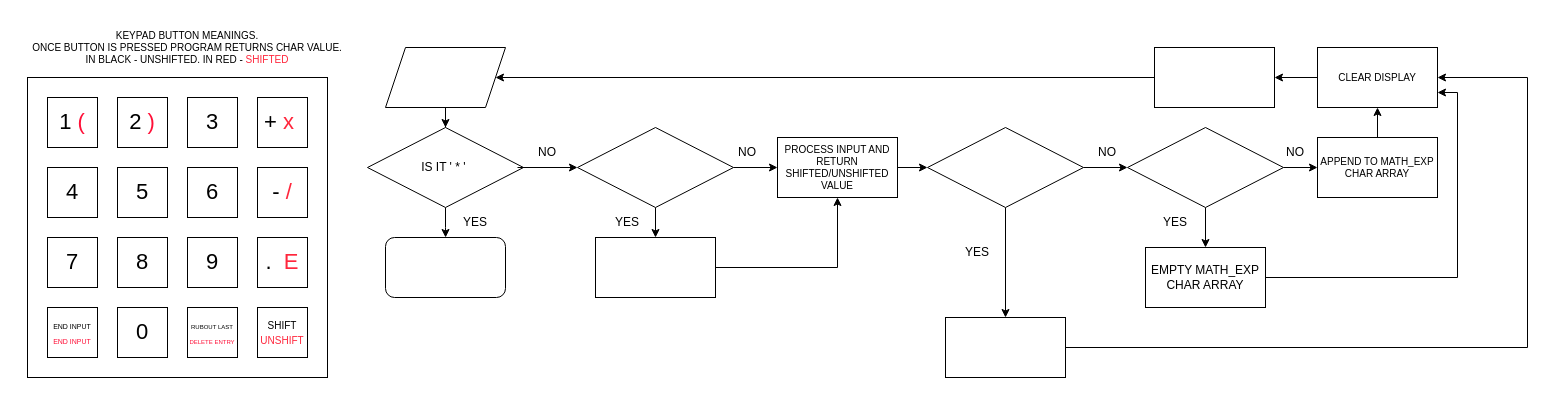
Image size: 1553x395. Some labels were removed from this diagram. Here are the shapes that lost their labels. From the top down, the centre of each, then its label:
pixel 445 77: READ KEYPAD INPUT
pixel 1214 77: DISPLAY MATH_EXP CHAR ARRAY
pixel 655 167: IS IT ' D '
pixel 1005 167: IS IT ' R '
pixel 1205 167: IS IT ' Z '
pixel 445 267: END
pixel 655 267: CHANGE SHIFT FLAG
pixel 1005 347: RUBOUT LAST ELEMENT FROM MATH _EXP CHAR ARRAY
